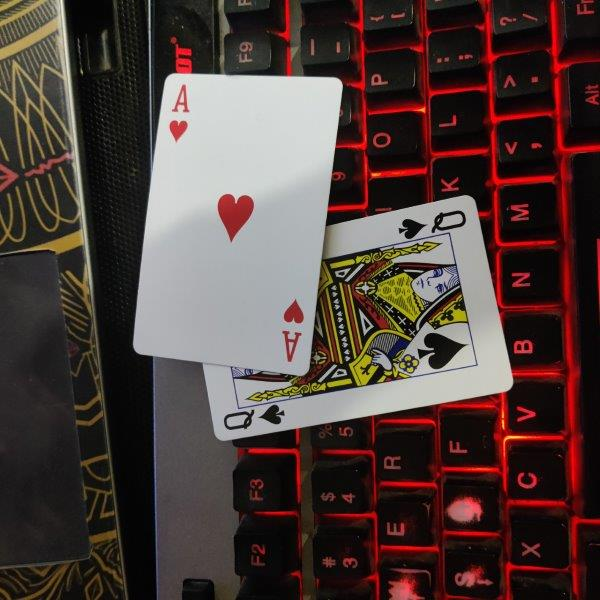Ace of Hearts: (132, 74, 344, 377)
Queen of Spades: (202, 194, 514, 443)
